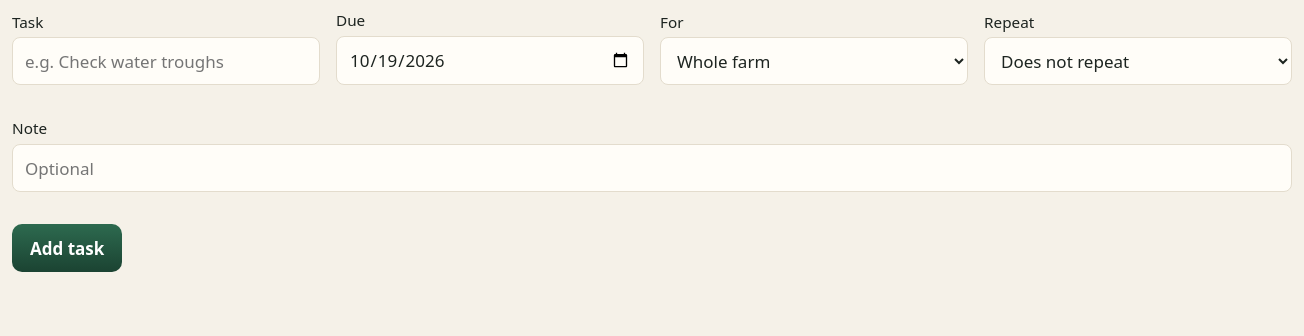
TaskForm (FR-5.3) › shows a server error
In the field labelled "Task": (166, 61) [12,37,320,85], type "X"
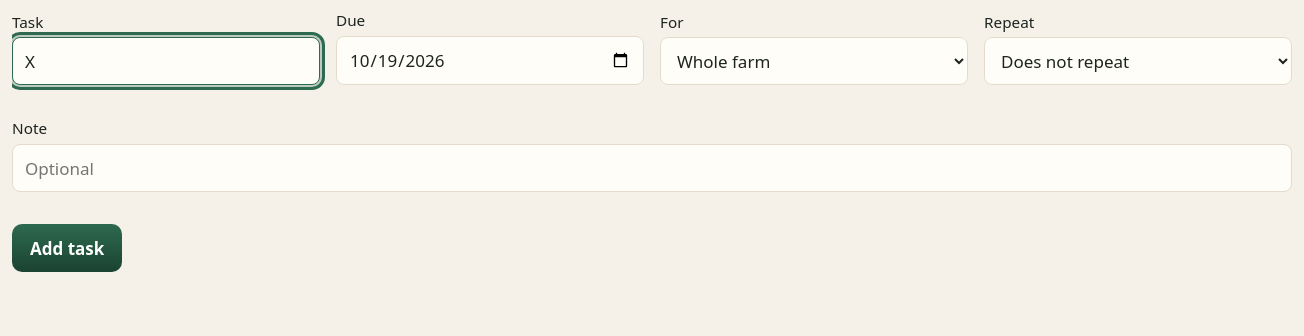
In the date field labelled "Due": (490, 61) [336,36,644,85], type "2026-06-20"
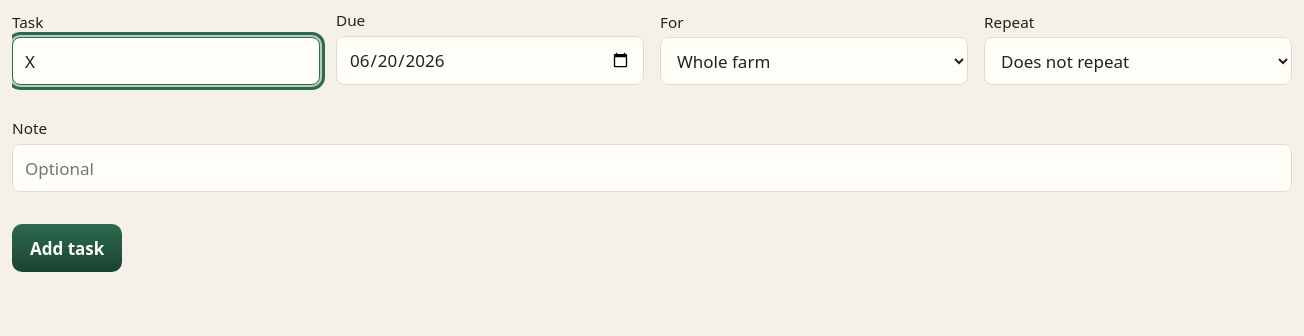
Click the button "Add task": (67, 248) [12,224,122,272]
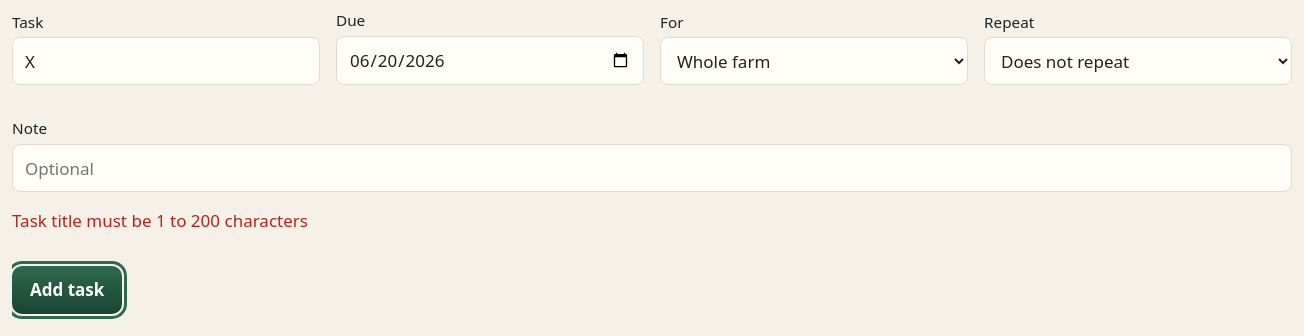
Result: the message shows "1 to 200" at [12,209,308,232]
